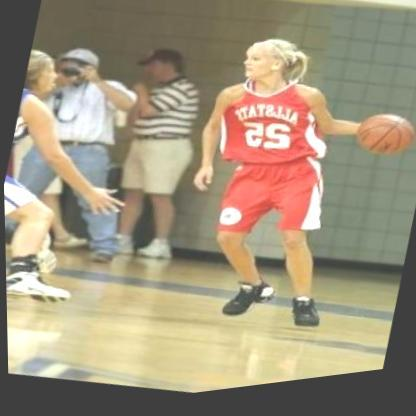basketball: (348, 110, 416, 180)
